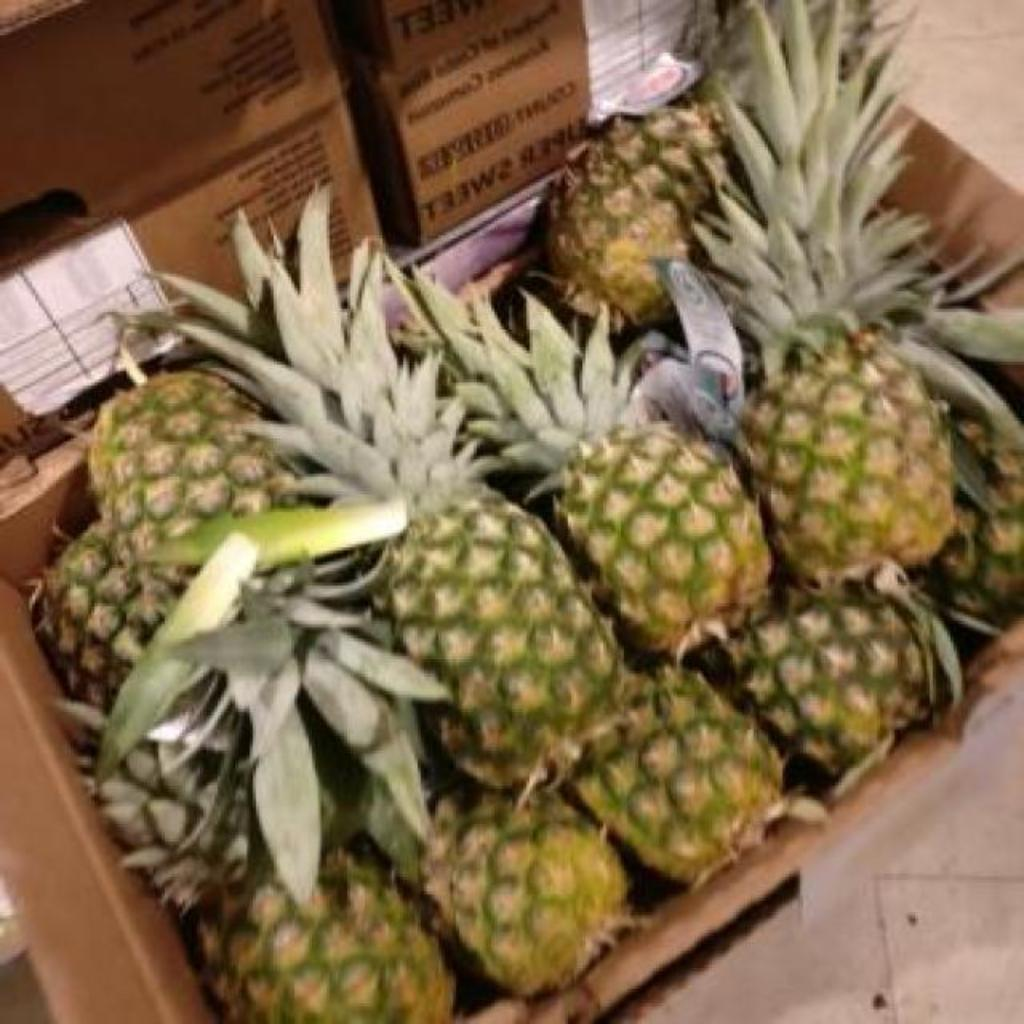pineapple: (182, 194, 622, 789), (88, 376, 446, 899), (696, 0, 954, 583), (401, 274, 772, 652), (552, 4, 746, 325), (574, 664, 782, 883), (198, 854, 452, 1024), (424, 794, 624, 995), (728, 598, 926, 777), (34, 524, 188, 707), (934, 416, 1024, 623)
